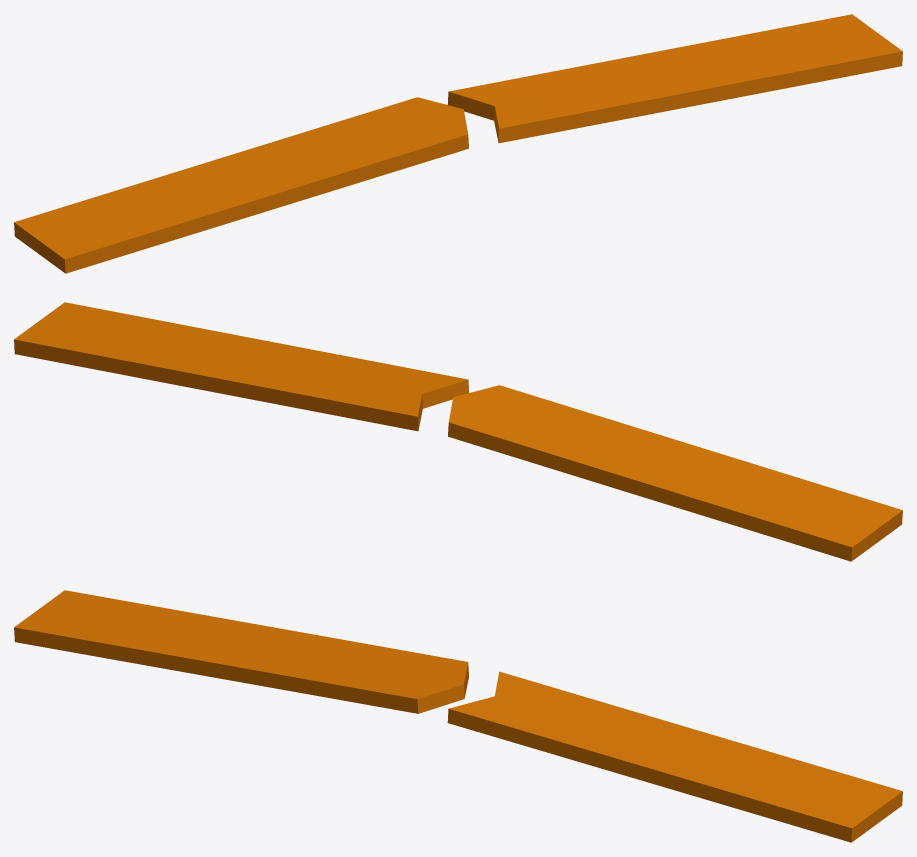
The model's file is Broken_plank_9.fbx.
3 renders of one model, top to bottom at view 1: azimuth 30°, elevation 25°; view 2: azimuth 150°, elevation 25°; view 3: azimuth 330°, elevation 25°, orthographic.
Visible parts, largest first — view 1: Cube.081, Cube.076; view 2: Cube.081, Cube.076; view 3: Cube.076, Cube.081.
Boxes of the visible parts, x1=… form: Cube.081: x1=14, y1=97, x2=468, y2=273; Cube.076: x1=447, y1=14, x2=902, y2=143; Cube.081: x1=448, y1=385, x2=902, y2=561; Cube.076: x1=14, y1=302, x2=469, y2=431; Cube.076: x1=447, y1=671, x2=902, y2=842; Cube.081: x1=14, y1=590, x2=468, y2=713.
Bounding box in the file's own units: 124 × 6.04 × 13.07.
